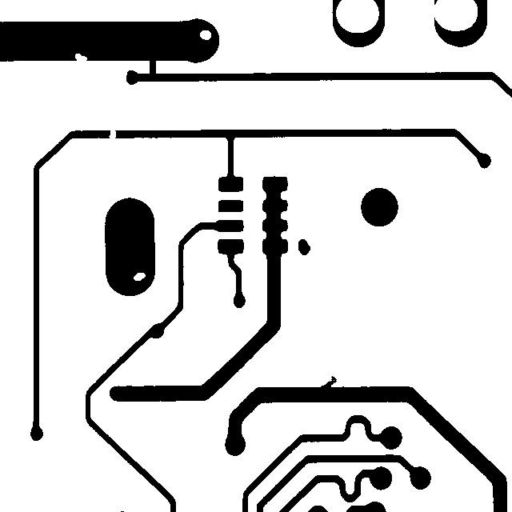copper: (290, 231, 318, 262)
mousebite: (67, 46, 94, 69)
open: (99, 119, 123, 146)
pin-hole: (192, 22, 218, 47), (126, 265, 153, 288)
short: (142, 46, 163, 86)
spur: (312, 368, 344, 397)
